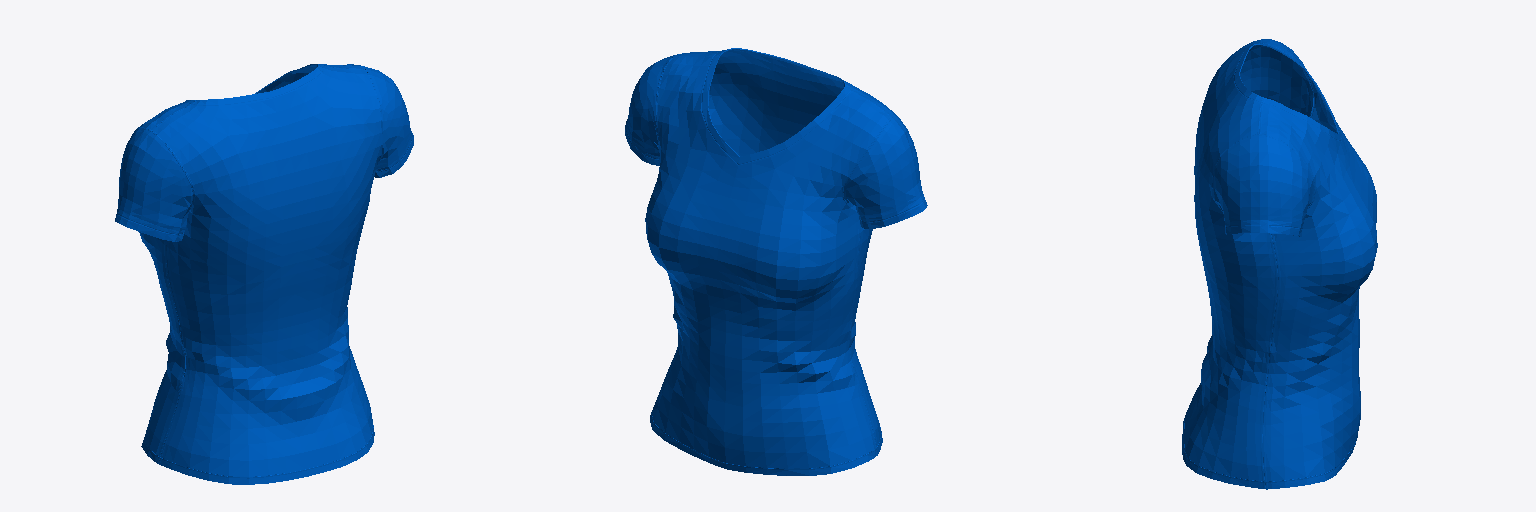
The model's file is shirtFemale.obj.
3 views of the same model, side by side, from view 1: azimuth 30°, elevation 25°; view 2: azimuth 150°, elevation 25°; view 3: azimuth 270°, elevation 25° (orthographic).
Parts seen in each view (by area): view 1: T_Shirt_female; view 2: T_Shirt_female; view 3: T_Shirt_female.
Boxes of the visible parts, x1,y1,x2,y2 form: T_Shirt_female: [115, 64, 413, 484]; T_Shirt_female: [625, 48, 927, 475]; T_Shirt_female: [1182, 39, 1377, 489].
Bounding box in the file's own units: 0.449 × 0.5426 × 0.2575.